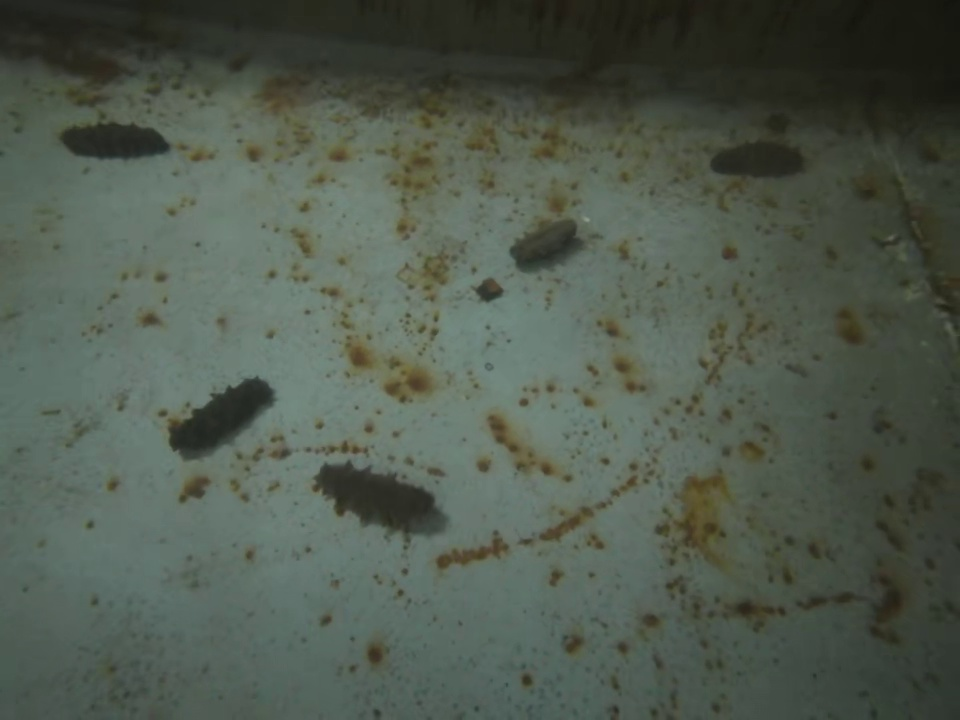seacucumber: (309, 457, 446, 535), (167, 375, 276, 460), (708, 137, 817, 188), (54, 117, 176, 161), (503, 216, 588, 268)
